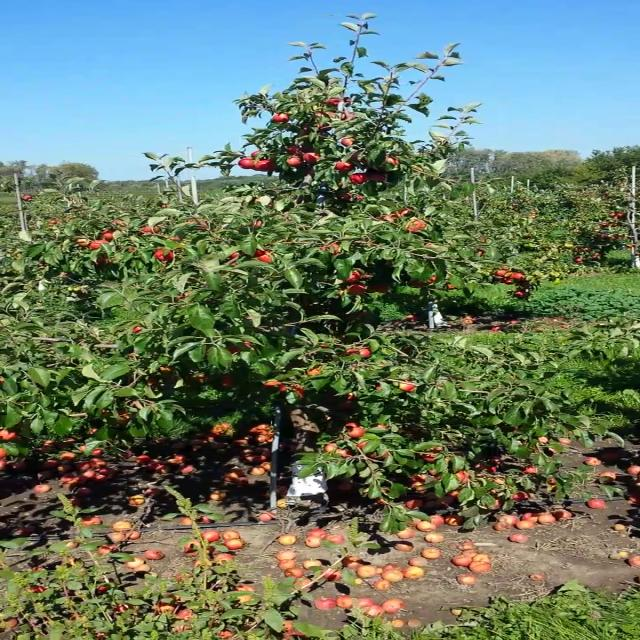apple: (230, 341, 253, 353), (344, 392, 358, 410), (218, 373, 234, 388), (348, 270, 371, 280), (390, 208, 412, 218), (115, 413, 133, 425), (155, 249, 174, 260), (350, 172, 367, 184), (213, 422, 232, 432), (421, 452, 440, 462), (367, 450, 388, 459), (256, 248, 269, 262), (348, 283, 366, 293), (366, 284, 388, 292), (408, 221, 425, 231), (455, 472, 469, 484), (90, 240, 108, 249), (341, 348, 360, 356), (255, 160, 270, 170), (0, 428, 15, 438), (349, 426, 364, 436), (272, 113, 288, 122), (426, 444, 444, 452), (304, 152, 318, 162), (239, 159, 254, 168), (316, 112, 338, 118), (102, 229, 115, 239), (336, 162, 352, 170), (400, 382, 414, 391), (317, 123, 330, 132), (286, 156, 300, 164), (494, 270, 508, 278), (509, 272, 523, 280), (294, 387, 305, 397), (265, 382, 280, 389), (343, 138, 356, 146), (77, 238, 90, 246), (336, 448, 349, 456), (359, 349, 372, 357), (449, 489, 460, 498), (370, 174, 386, 180), (144, 226, 160, 232), (388, 157, 398, 166), (370, 424, 388, 429), (325, 443, 336, 451), (424, 276, 435, 284), (290, 146, 304, 152), (494, 499, 504, 507), (328, 98, 341, 104), (342, 113, 355, 119), (308, 367, 320, 373), (159, 366, 171, 372), (515, 290, 527, 296), (353, 152, 360, 162), (358, 441, 367, 448), (254, 220, 262, 226), (230, 252, 238, 258), (132, 327, 142, 331), (281, 384, 286, 392), (348, 423, 358, 427), (376, 384, 382, 390), (346, 193, 353, 198), (252, 152, 260, 156), (1, 447, 5, 455), (506, 279, 514, 283), (358, 196, 364, 199)
